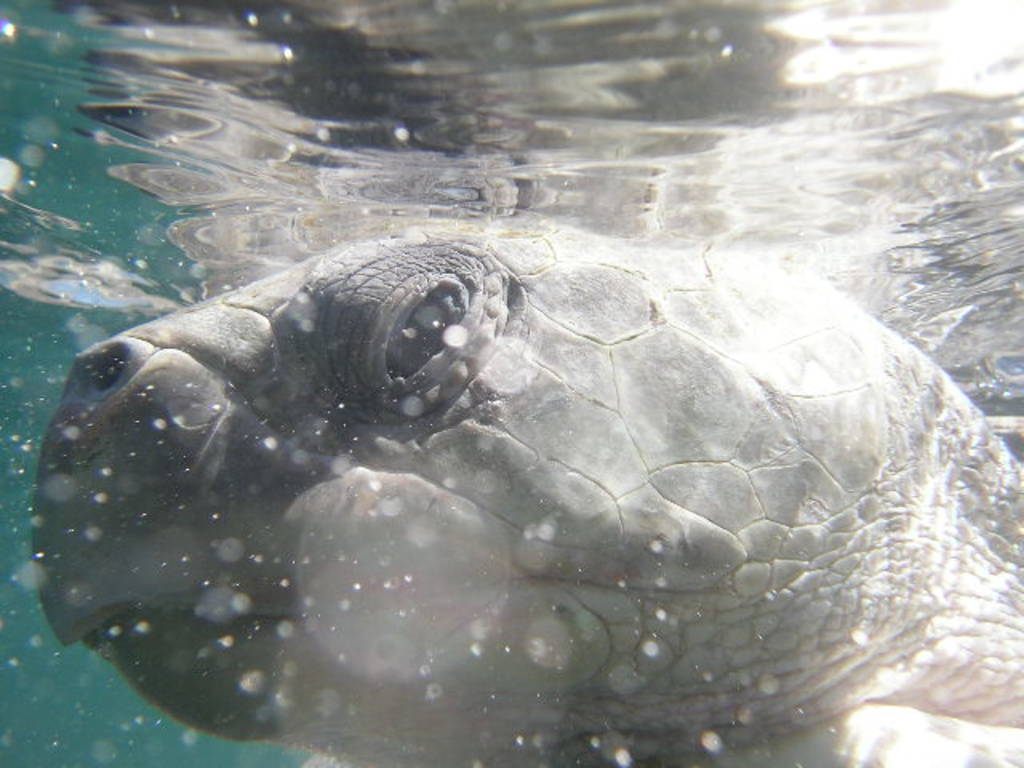Sea turtles: (25, 228, 1022, 766)
